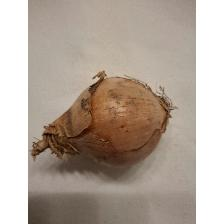Zwiebel: (28, 68, 178, 172)
